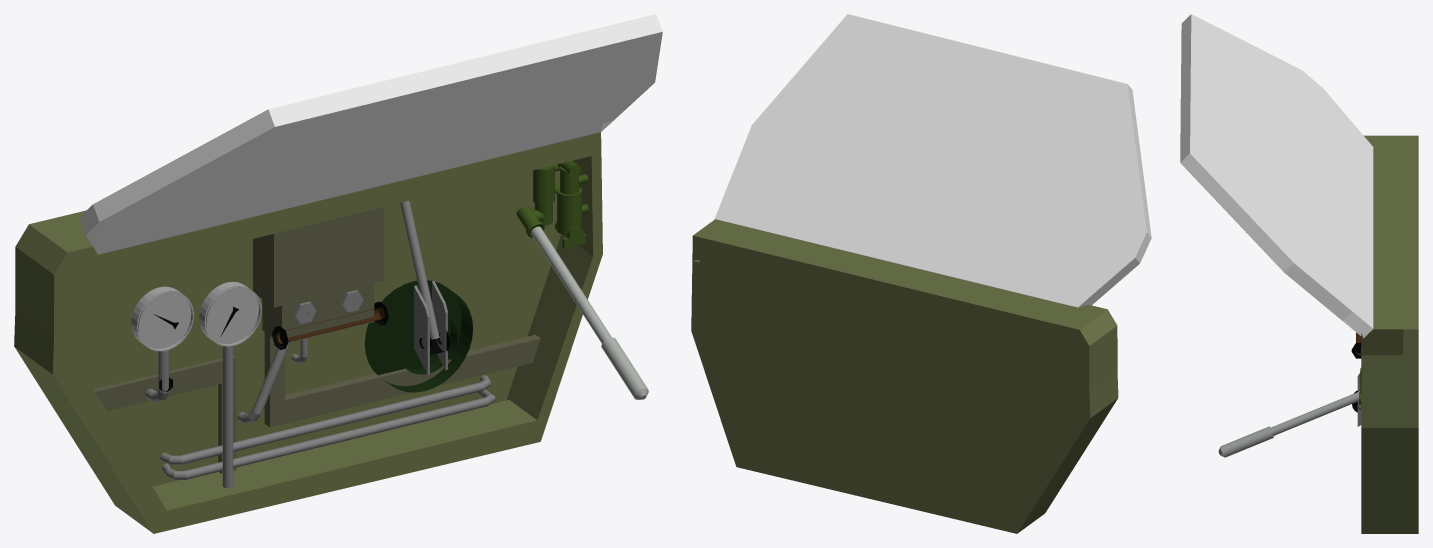
The model's file is Panel2.fbx.
3 renders of one model, left to right at view 1: azimuth 30°, elevation 25°; view 2: azimuth 150°, elevation 25°; view 3: azimuth 270°, elevation 25°, orthographic. The views are drawn at different scales.
Visible parts, largest first — view 1: body, cap, lever-1, lever-2; view 2: body, cap; view 3: cap, body, lever-1.
Boxes of the visible parts, x1,y1,x2,y2 form: body: (14, 132, 602, 533); cap: (79, 14, 662, 254); lever-1: (516, 205, 648, 399); lever-2: (400, 200, 449, 355); body: (691, 219, 1118, 533); cap: (714, 14, 1151, 307); cap: (1180, 14, 1373, 338); body: (1351, 135, 1418, 533); lever-1: (1218, 391, 1360, 457).
Size of the model in its own units: 339 by 301 by 171.
